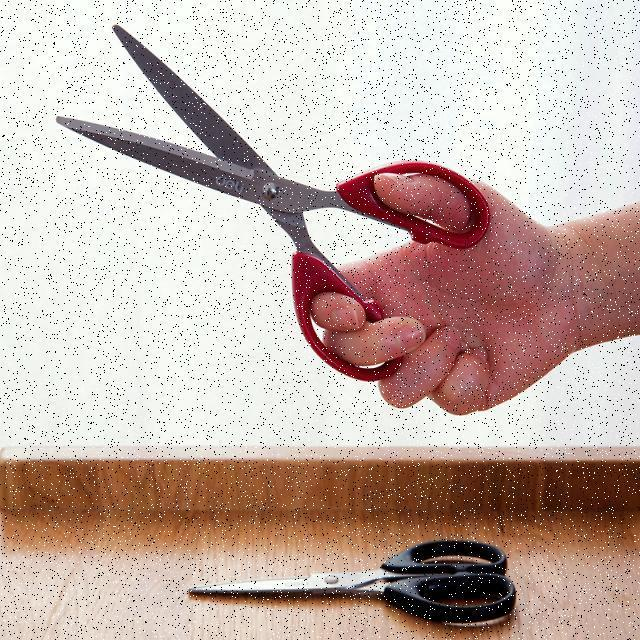scissors: (51, 14, 495, 386), (182, 534, 520, 626)
